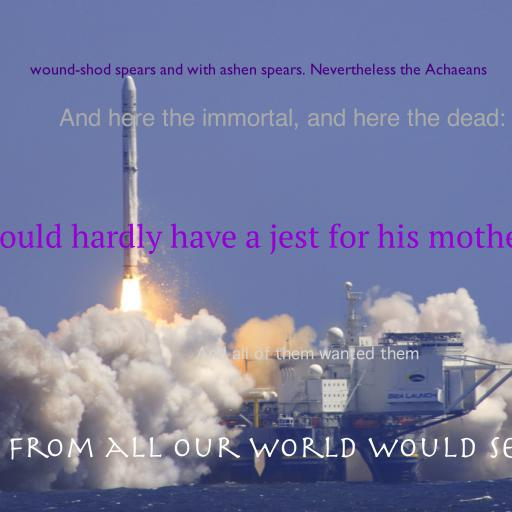Big Caslon: (58, 108, 506, 130)
Geneva: (195, 346, 419, 360)
Gill Sans: (29, 63, 487, 79)
Herculanum: (0, 437, 512, 460)
PT Serif: (0, 223, 512, 255)
